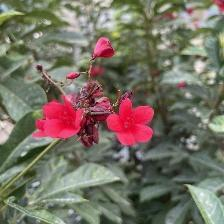jatropha: (105, 95, 157, 147)
